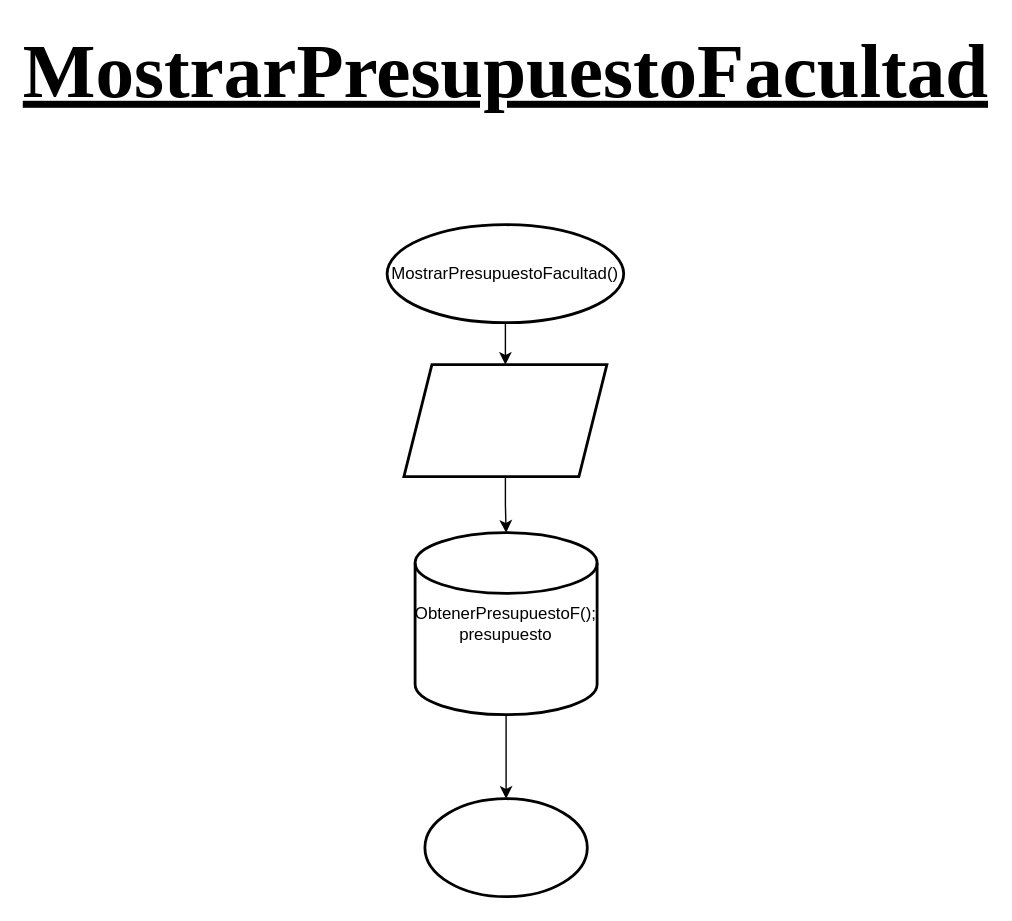
Some shapes in this 1012 by 921 pixel diagram are drawn without their labels. The centre of each missing label's shape, as x and y in pixels:
"Array presupuesto" goes at (x=505, y=420).
"Return(presupuesto)" goes at (x=505, y=847).
